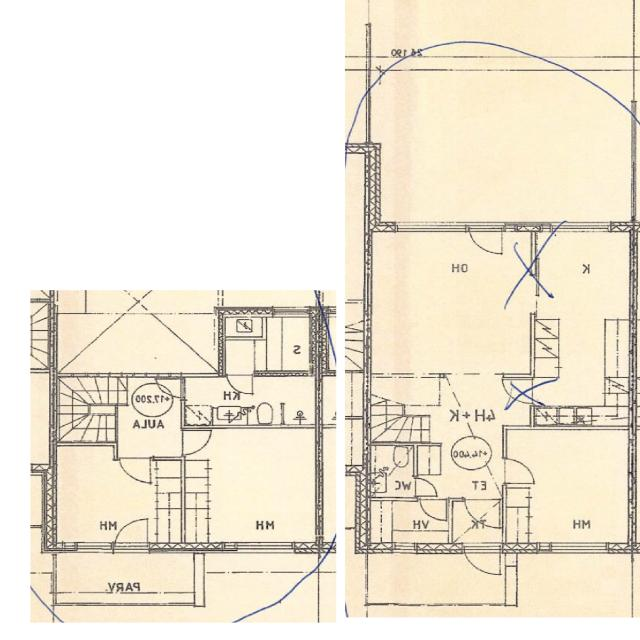door: (464, 542, 501, 584), (115, 515, 149, 552), (469, 222, 502, 259), (465, 497, 500, 531), (120, 457, 150, 486), (503, 459, 537, 484), (181, 431, 214, 455), (227, 370, 253, 400), (420, 498, 447, 524), (158, 379, 185, 398), (414, 478, 440, 496)
